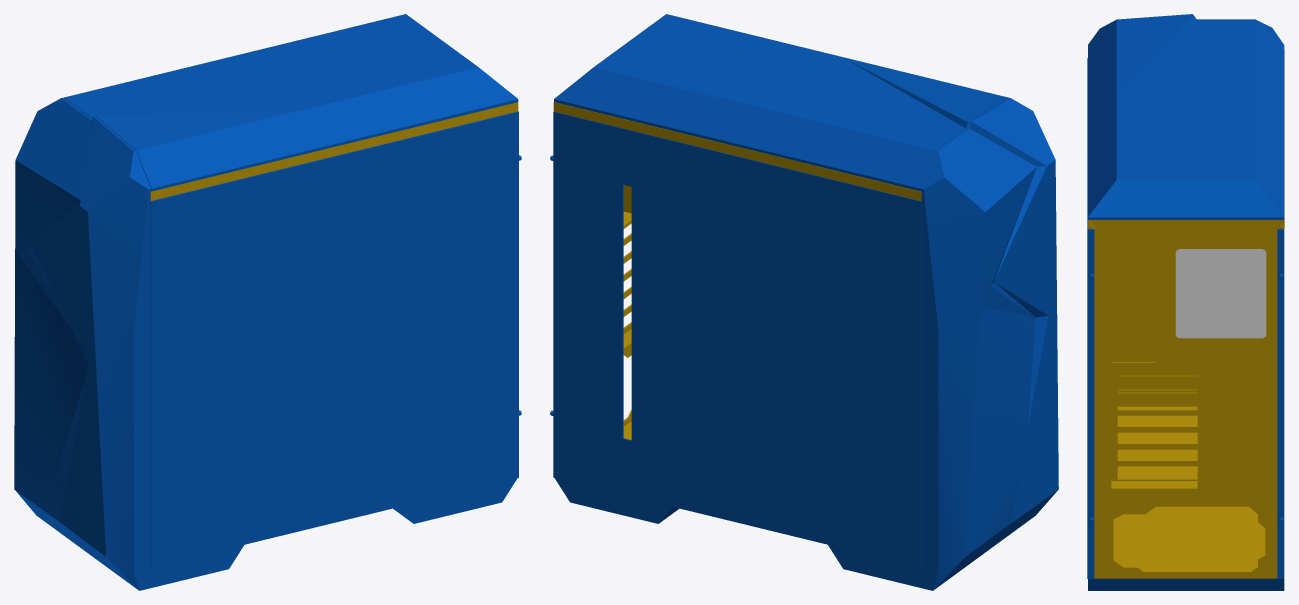
Rendered from pc_case_j_cover.fbx.
3 renders of one model, left to right at view 1: azimuth 30°, elevation 25°; view 2: azimuth 150°, elevation 25°; view 3: azimuth 270°, elevation 25°, orthographic. The views are drawn at different scales.
Parts seen in each view (by area): view 1: pc_case_j_cover, pc_case_j_body; view 2: pc_case_j_cover_door, pc_case_j_cover, pc_case_j_body; view 3: pc_case_j_body, pc_case_j_cover, pc_case_j_wire, pc_case_j_cover_door.
Part boxes in pixels (left/top/right/bottom): pc_case_j_cover: left=14, top=14, right=521, bottom=590; pc_case_j_body: left=150, top=102, right=518, bottom=200; pc_case_j_cover_door: left=550, top=111, right=921, bottom=567; pc_case_j_cover: left=554, top=14, right=1058, bottom=590; pc_case_j_body: left=553, top=102, right=921, bottom=439; pc_case_j_body: left=1088, top=49, right=1284, bottom=578; pc_case_j_cover: left=1087, top=14, right=1284, bottom=590; pc_case_j_wire: left=1175, top=249, right=1266, bottom=338; pc_case_j_cover_door: left=1277, top=229, right=1284, bottom=578.
Bounding box in the file's own units: 51.51 × 50.57 × 21.92.
